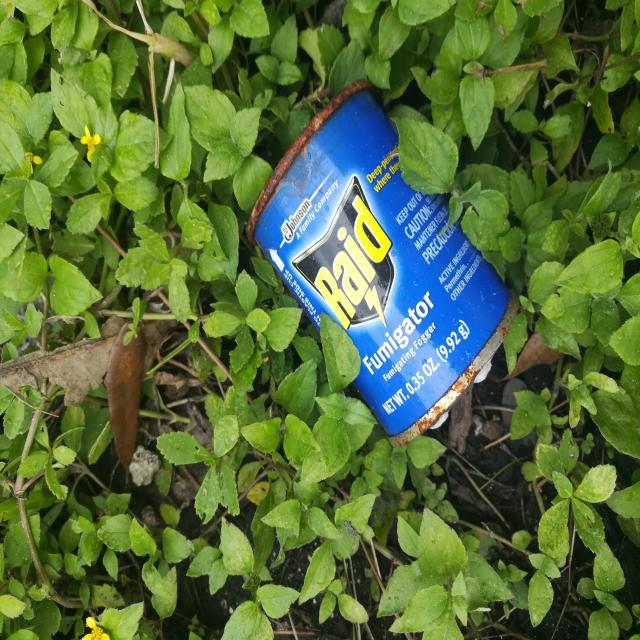litter: (243, 75, 516, 452)
